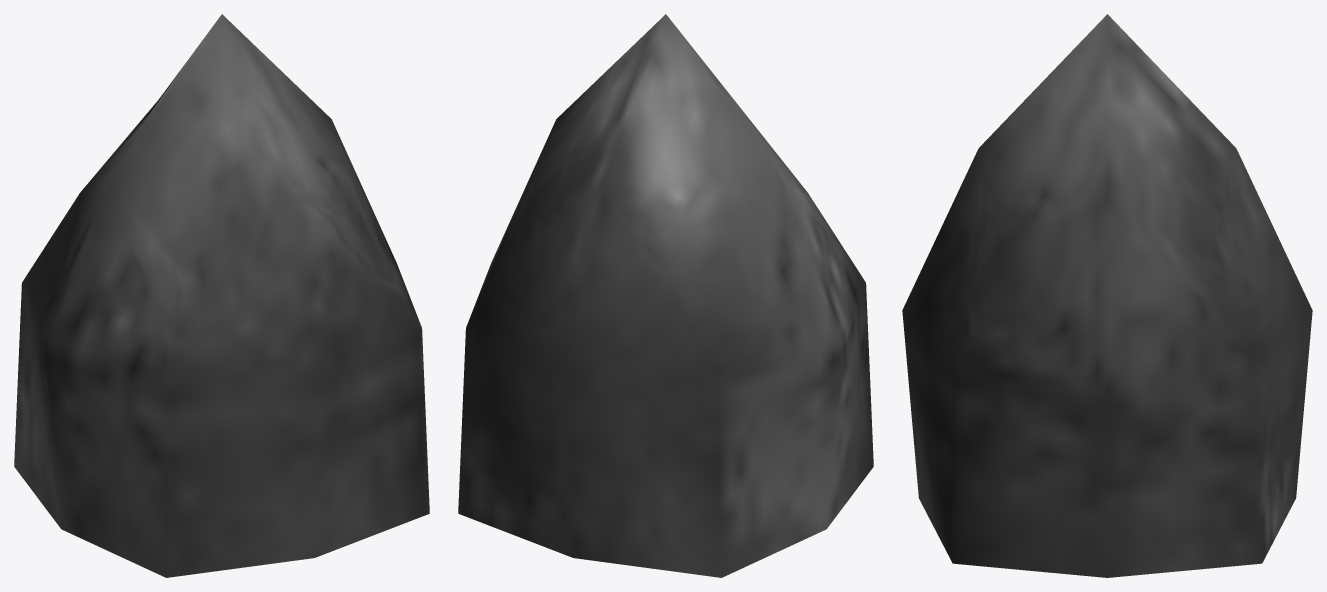
File: MusketBullet.fbx
3 renders of one model, left to right at view 1: azimuth 30°, elevation 25°; view 2: azimuth 150°, elevation 25°; view 3: azimuth 270°, elevation 25°, orthographic.
Parts seen in each view (by area): view 1: Cube.007; view 2: Cube.007; view 3: Cube.007.
Boxes of the visible parts, x1,y1,x2,y2 form: Cube.007: (14,14,429,577); Cube.007: (458,14,873,577); Cube.007: (902,14,1312,577).
Size of the model in its own units: 0.00803 by 0.0105 by 0.00803.
